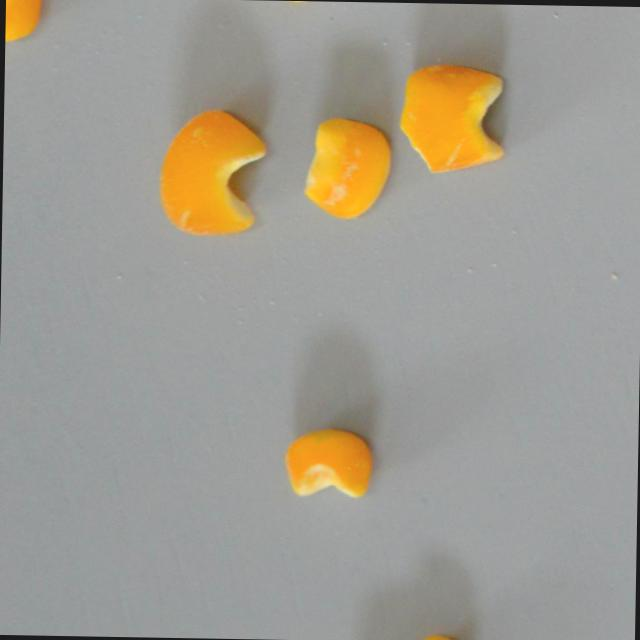no_canjicado: (303, 113, 394, 218)
no_desgerminado: (283, 424, 374, 498)
pelicula: (155, 103, 269, 238), (396, 59, 505, 174)
